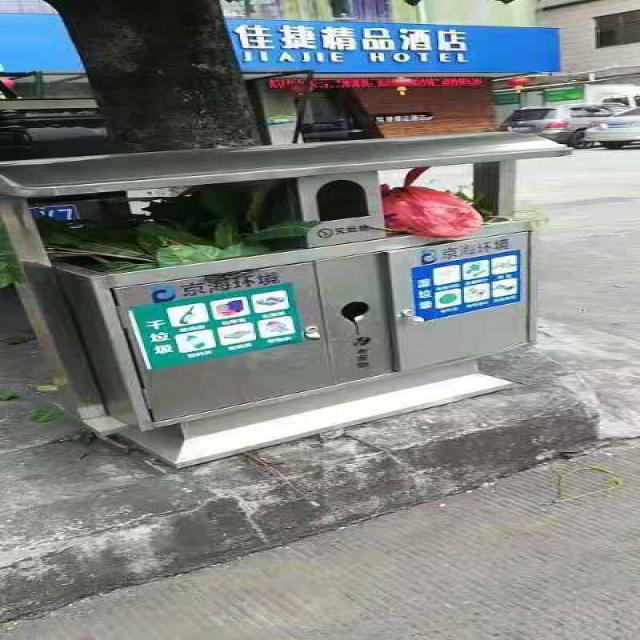overflow: (0, 132, 573, 466)
